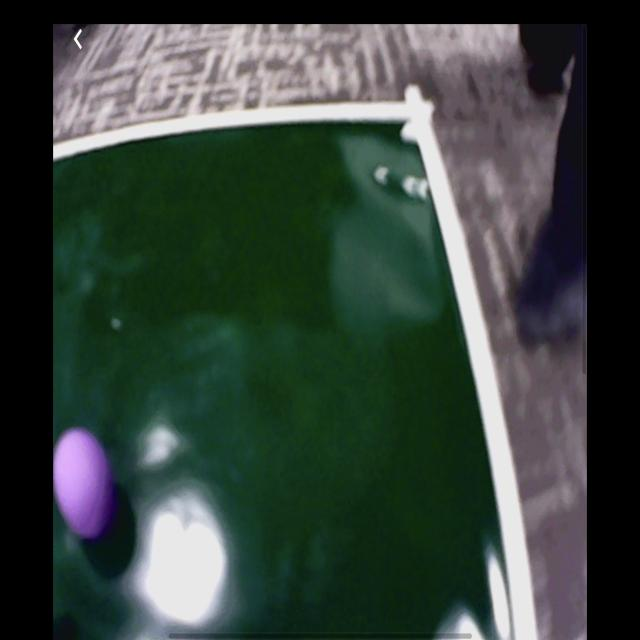ball: (53, 426, 116, 542)
